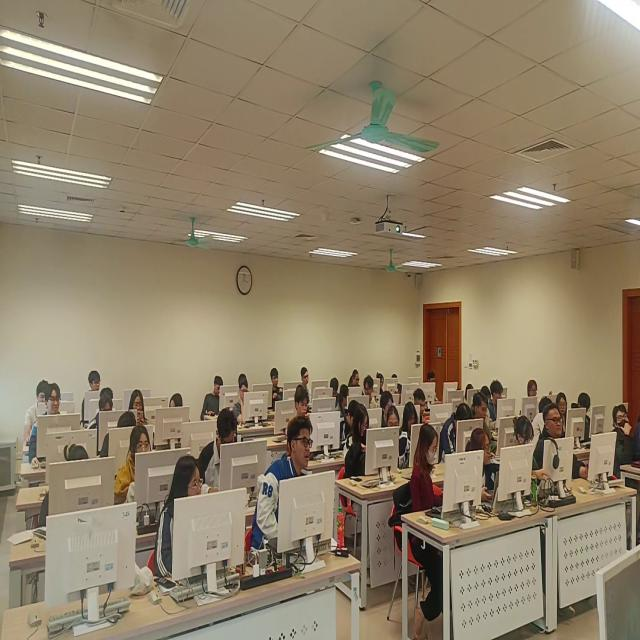raise_head: (249, 412, 317, 556), (156, 452, 204, 585), (535, 400, 589, 484), (30, 380, 64, 472), (116, 426, 154, 508), (464, 423, 495, 505), (611, 399, 638, 478), (78, 365, 102, 423), (269, 363, 285, 409), (557, 390, 570, 436), (527, 379, 540, 405)
using_computer: (40, 444, 96, 535), (200, 408, 238, 498), (411, 420, 443, 512), (514, 414, 546, 501), (440, 399, 474, 464), (345, 403, 372, 483), (22, 374, 51, 445), (101, 412, 137, 464), (473, 393, 500, 457), (287, 386, 314, 444), (386, 404, 410, 468), (197, 373, 226, 421), (336, 397, 360, 446), (89, 392, 116, 433), (573, 394, 593, 444), (489, 378, 507, 424), (235, 378, 250, 427), (483, 382, 497, 434), (403, 401, 420, 443), (413, 390, 432, 427), (380, 389, 394, 430), (427, 369, 441, 406), (300, 367, 314, 404), (329, 370, 341, 403), (348, 366, 362, 393), (462, 379, 474, 406), (378, 371, 387, 395), (397, 381, 405, 407), (391, 372, 400, 393), (237, 371, 248, 386)
using_phone: (127, 388, 149, 426)
